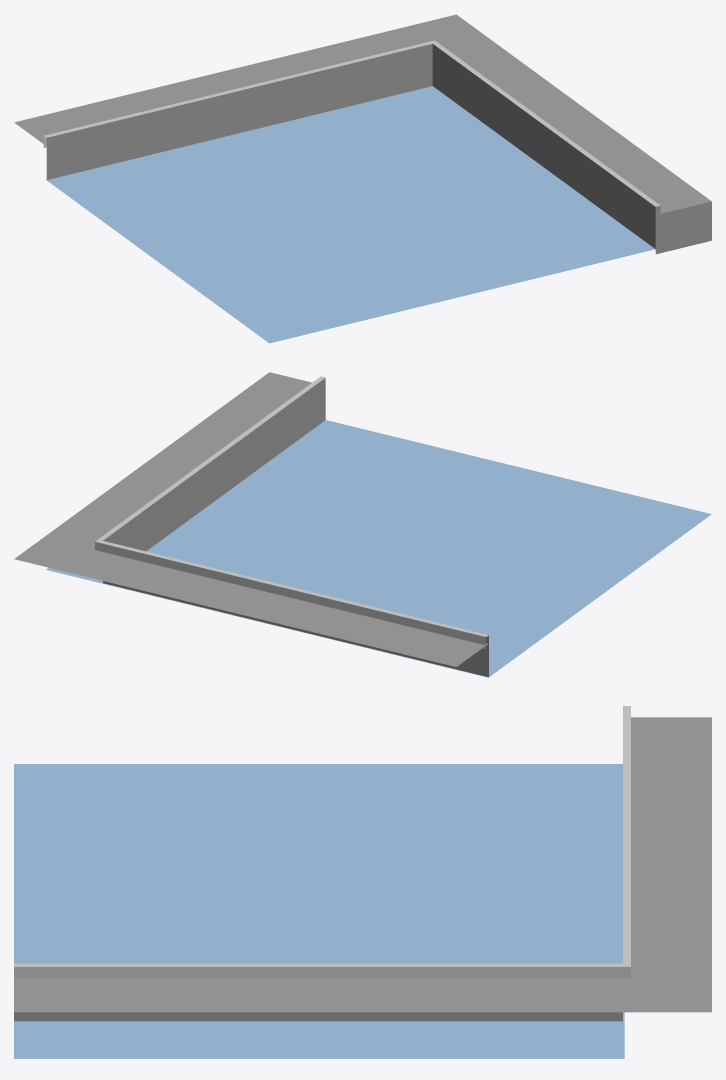
Rendered from road_tile_river_2x2_011.fbx.
3 renders of one model, top to bottom at view 1: azimuth 30°, elevation 25°; view 2: azimuth 150°, elevation 25°; view 3: azimuth 270°, elevation 25°, orthographic. The views are drawn at different scales.
Parts seen in each view (by area): view 1: road_tile_river_2x2_011; view 2: road_tile_river_2x2_011; view 3: road_tile_river_2x2_011.
Part boxes in pixels (box(x1,y1,x2,y2)): road_tile_river_2x2_011: box(14, 14, 711, 343); road_tile_river_2x2_011: box(14, 372, 711, 677); road_tile_river_2x2_011: box(14, 706, 711, 1058).
Bounding box in the file's own units: 1600 × 164 × 1600.
